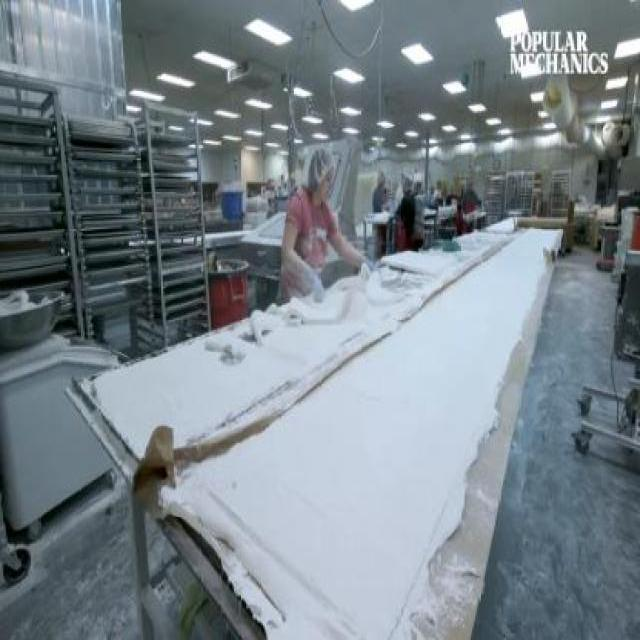hairnet: (304, 148, 335, 170)
